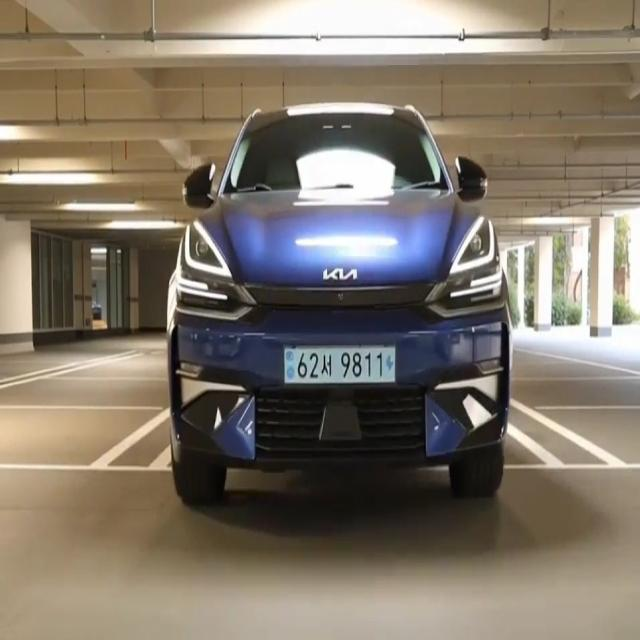car: (284, 347, 402, 382)
carev: (283, 346, 298, 388), (383, 346, 397, 382)
